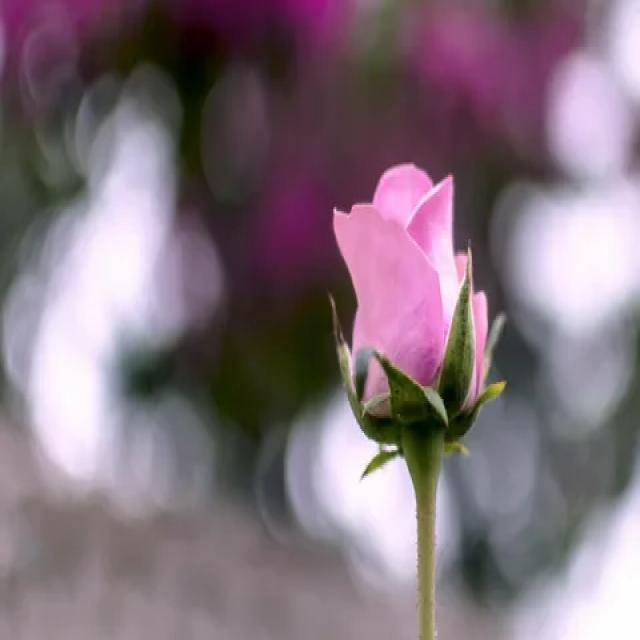rose: (318, 109, 506, 488)
